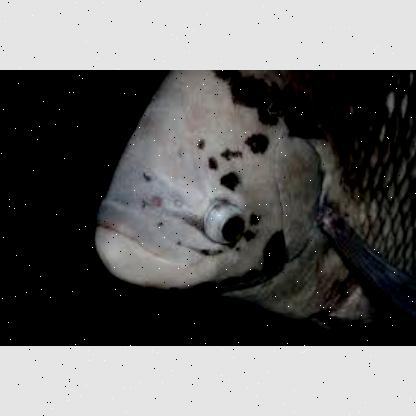gurame: (94, 70, 414, 342)
